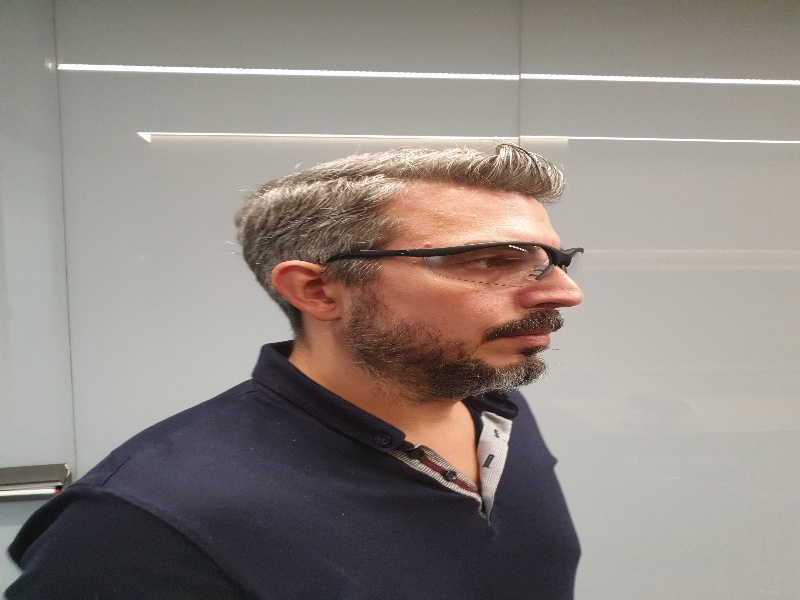Gozluk: (320, 240, 585, 286)
